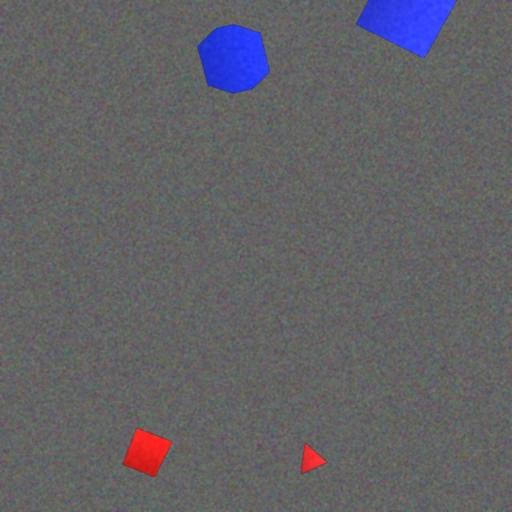BLUE_SQUARE: (356, 0, 466, 59)
RED_SQUARE: (122, 428, 174, 478)
